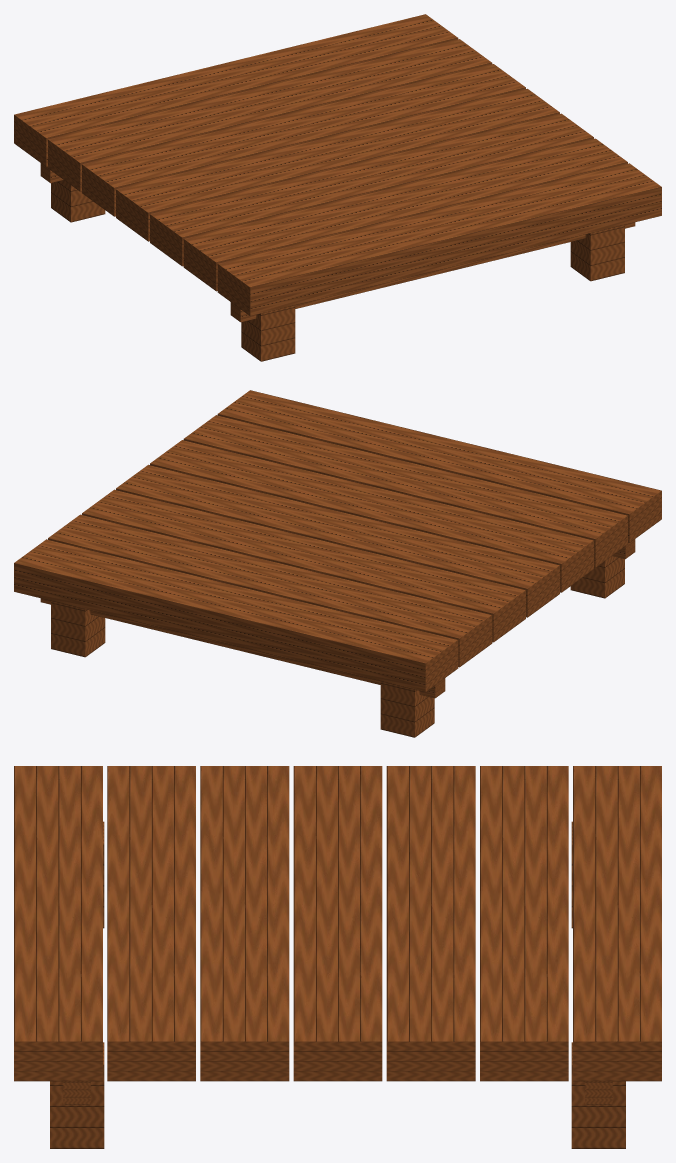
File: safari-camp-and-bush-lodge-timber-deck-module-29012ee7__37678.glb
The picture shows the model from 3 angles, top to bottom: view 1: azimuth 30°, elevation 25°; view 2: azimuth 150°, elevation 25°; view 3: azimuth 270°, elevation 25°; orthographic projection. The views are drawn at different scales.
Visible parts, largest first — view 1: timber-deck-module-timber; view 2: timber-deck-module-timber; view 3: timber-deck-module-timber.
Boxes of the visible parts, box(x1,y1,x2,y2) form: timber-deck-module-timber: box(14, 14, 661, 361); timber-deck-module-timber: box(14, 390, 661, 737); timber-deck-module-timber: box(14, 766, 661, 1148).
Bounding box in the file's own units: 2.4 × 0.4998 × 2.38.
1 material, 1 textured.
